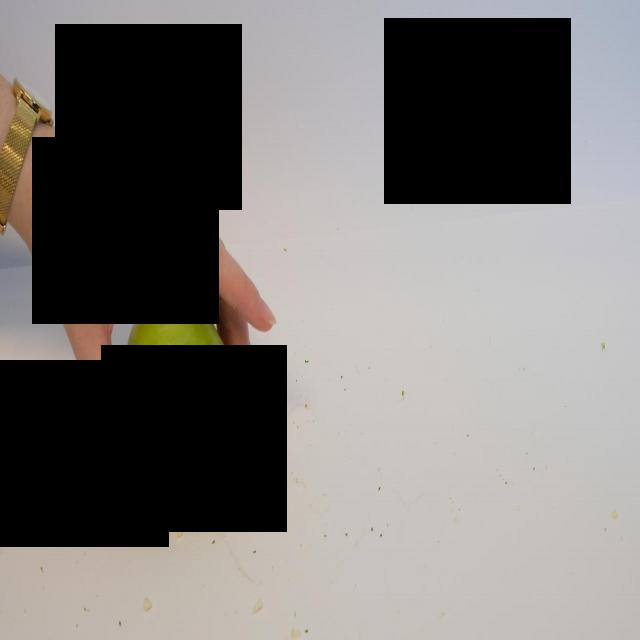apple: (128, 272, 234, 502)
